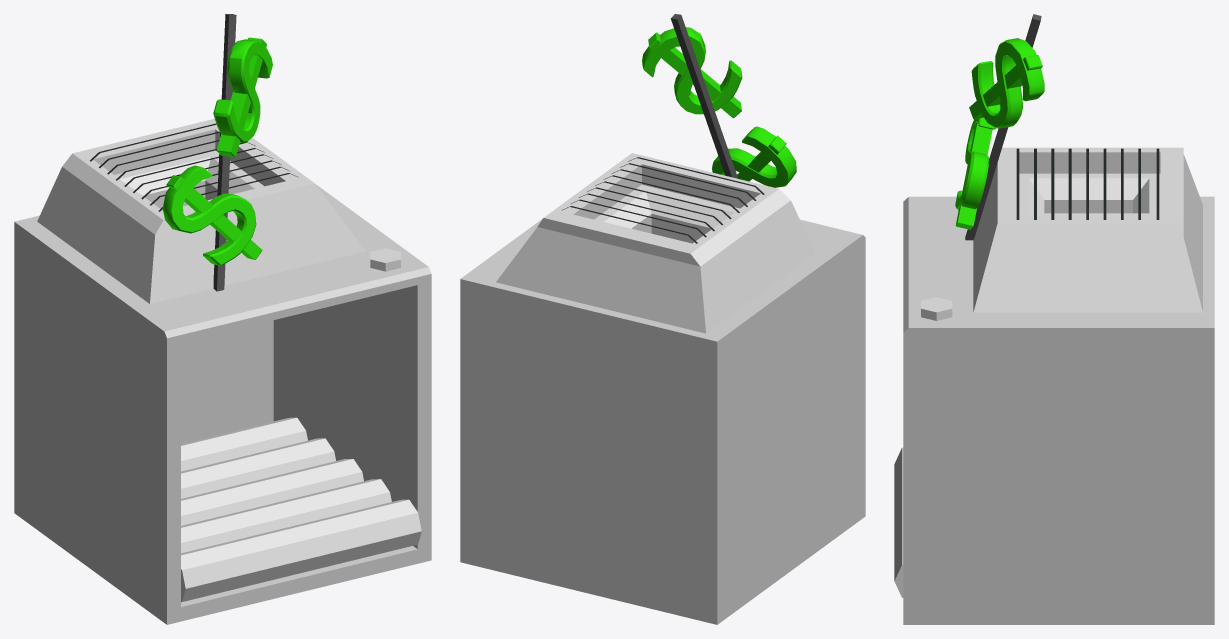
The model's file is seller.fbx.
3 views of the same model, side by side, from view 1: azimuth 30°, elevation 25°; view 2: azimuth 150°, elevation 25°; view 3: azimuth 270°, elevation 25° (orthographic). The views are drawn at different scales.
Visible parts, largest first — view 1: Out/In_1, Cube.002, wheels_1_, wheels_1_.001, Plane, wheels_1_.002, wheels_1_.003, Plane.001, wheels_1_.004, решетка, Cube, Cylinder; view 2: Out/In_1, Cube.002, Plane.001, Plane, решетка, Cube; view 3: Out/In_1, Cube.002, Plane.001, Plane, решетка, wheels_1_, Cube, Cylinder.
Boxes of the visible parts, box(x1,y1,x2,y2) form: Out/In_1: box(14, 184, 431, 624); Cube.002: box(37, 118, 365, 303); wheels_1_: box(181, 499, 421, 602); wheels_1_.001: box(181, 479, 391, 553); Plane: box(162, 165, 262, 265); wheels_1_.002: box(181, 459, 363, 525); wheels_1_.003: box(181, 438, 335, 498); Plane.001: box(213, 37, 272, 157); wheels_1_.004: box(181, 417, 307, 471); решетка: box(90, 123, 298, 211); Cube: box(213, 14, 236, 291); Cylinder: box(370, 248, 400, 271); Out/In_1: box(460, 219, 865, 624); Cube.002: box(496, 153, 815, 333); Plane.001: box(642, 27, 742, 118); Plane: box(712, 126, 796, 187); решетка: box(562, 157, 764, 243); Cube: box(670, 14, 738, 178); Out/In_1: box(903, 196, 1214, 624); Cube.002: box(973, 147, 1202, 312); Plane.001: box(969, 38, 1044, 128); Plane: box(955, 117, 995, 229); решетка: box(1016, 148, 1159, 219); wheels_1_: box(894, 447, 903, 597); Cube: box(965, 14, 1041, 240); Cylinder: box(921, 297, 952, 320).
Bounding box in the file's own units: 95 × 183 × 97.72.
